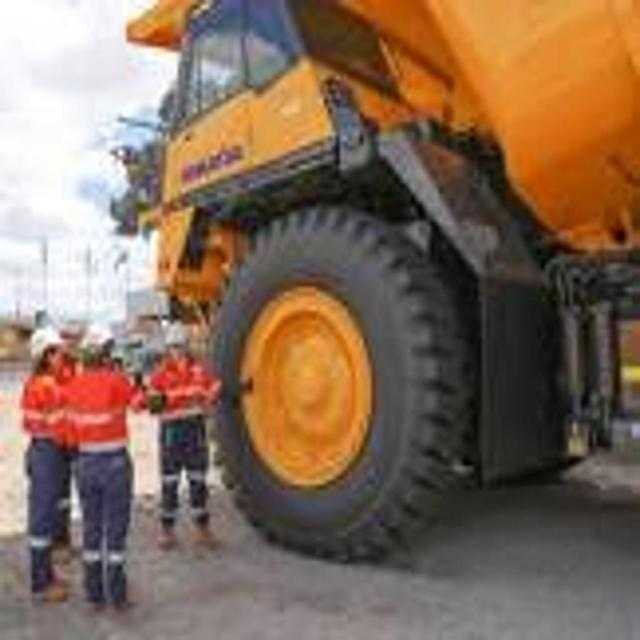dump_truck: (115, 0, 640, 565)
